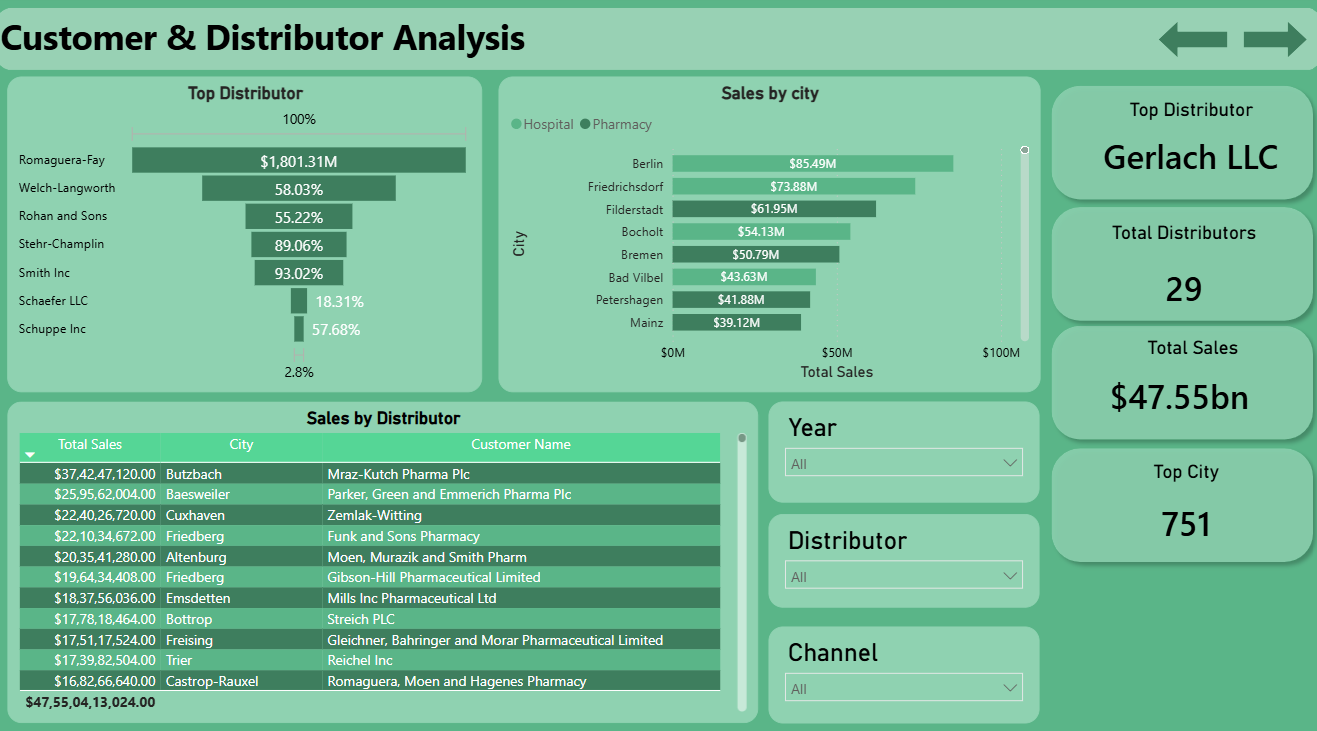

The page's visual inventory and layout, read from the dashboard file:
{"tool":"powerbi","page":{"name":"Customer & Distributor Analysis","canvas":[1280,720],"ordinal":1},"visuals":[{"type":"shape","title":"Executive Summary","box":[0,13.7,1280.3,60.4],"z":0},{"type":"shape","box":[1010,79.6,270.3,127.6],"z":1000},{"type":"funnel","title":"Top Distributor","fields":{"Category":["FACT-sales.Distributor"],"Y":["FACT-sales.Total Sales"]},"box":[11,79.6,458.3,304.6],"z":2000},{"type":"tableEx","title":"Sales by Distributor ","fields":{"Values":["FACT-sales.Total Sales","DIM-city.City","FACT-sales.Customer Name"]},"box":[11.1,393.7,724.9,310.3],"z":3000},{"type":"cardVisual","title":"Top Distributor ","fields":{"Data":["FACT-sales.Top Distributor"]},"box":[1026.4,101.5,253.9,85.1],"z":4000},{"type":"barChart","title":"Sales by city","fields":{"Category":["FACT-sales.City"],"Y":["FACT-sales.Total Sales"],"Series":["DIM-Channel.Channel"]},"box":[484.4,79.6,522.8,304.6],"z":5000},{"type":"slicer","fields":{"Values":["FACT-sales.Year"]},"box":[745.7,393.7,261.6,97.4],"z":6000},{"type":"slicer","fields":{"Values":["FACT-sales.Distributor"]},"box":[745.7,502.3,261.6,90.4],"z":7000},{"type":"slicer","fields":{"Values":["DIM-Subchannel.Channel"]},"box":[745.7,610.8,261.6,93.2],"z":8000},{"type":"shape","box":[1010,311.5,270.3,127.6],"z":9000},{"type":"shape","box":[1010,196.2,270.3,127.6],"z":10000},{"type":"cardVisual","title":"Total Distributors","fields":{"Data":["FACT-sales.Total Distributors"]},"box":[1037.4,219.6,218.2,104.3],"z":11000},{"type":"cardVisual","title":"Total Sales","fields":{"Data":["FACT-sales.Total Sales"]},"box":[1045.6,330.7,218.2,90.6],"z":12000},{"type":"shape","box":[1010,429.5,270.3,127.6],"z":13000},{"type":"cardVisual","title":"Top City","fields":{"Data":["FACT-sales.Total Customers"]},"box":[1016.8,450.1,263.5,97.4],"z":14000},{"type":"shape","box":[1203.5,26.4,61.2,34.8],"z":15000},{"type":"shape","box":[1121.4,26.4,66.8,34.8],"z":16000}]}

Visuals, with their boxes in screenshot pixels (x1, y1, x2, y2), scaled from the page's 1280x720 canvas onto the 1317x731 screenshot:
"Executive Summary" shape: x1=0, y1=14, x2=1316, y2=75
shape: x1=1039, y1=81, x2=1316, y2=210
"Top Distributor" funnel: x1=11, y1=81, x2=483, y2=390
"Sales by Distributor " tableEx: x1=11, y1=400, x2=757, y2=715
"Top Distributor " cardVisual: x1=1056, y1=103, x2=1316, y2=189
"Sales by city" barChart: x1=498, y1=81, x2=1036, y2=390
slicer - FACT-sales.Year: x1=767, y1=400, x2=1036, y2=499
slicer - FACT-sales.Distributor: x1=767, y1=510, x2=1036, y2=602
slicer - DIM-Subchannel.Channel: x1=767, y1=620, x2=1036, y2=715
shape: x1=1039, y1=316, x2=1316, y2=446
shape: x1=1039, y1=199, x2=1316, y2=329
"Total Distributors" cardVisual: x1=1067, y1=223, x2=1292, y2=329
"Total Sales" cardVisual: x1=1076, y1=336, x2=1300, y2=428
shape: x1=1039, y1=436, x2=1316, y2=566
"Top City" cardVisual: x1=1046, y1=457, x2=1316, y2=556
shape: x1=1238, y1=27, x2=1301, y2=62
shape: x1=1154, y1=27, x2=1223, y2=62
